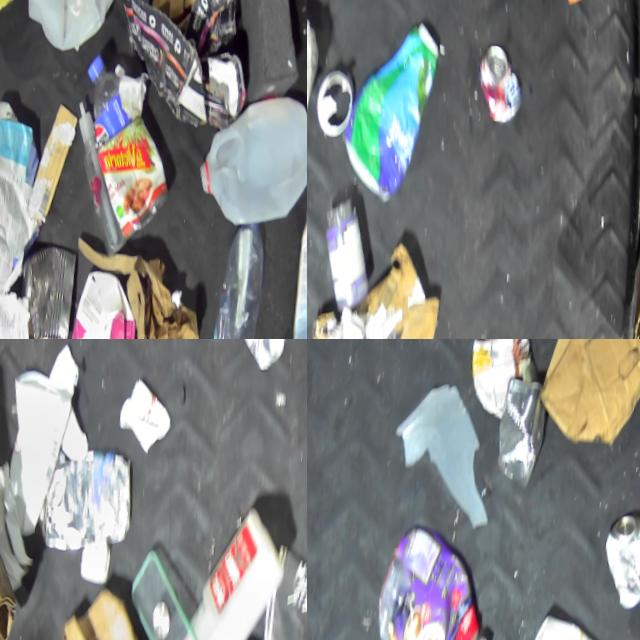can: (41, 445, 145, 554), (494, 369, 557, 490), (464, 339, 546, 420), (21, 241, 86, 339), (476, 35, 533, 121), (600, 501, 640, 609), (315, 60, 365, 136), (224, 339, 296, 371)
milk_jug: (171, 497, 300, 640), (194, 82, 307, 224), (22, 0, 125, 54), (0, 0, 29, 18)
non_white_jug: (336, 11, 453, 203), (374, 518, 510, 640), (44, 260, 155, 339)
plastic_bottle: (196, 214, 281, 339)
